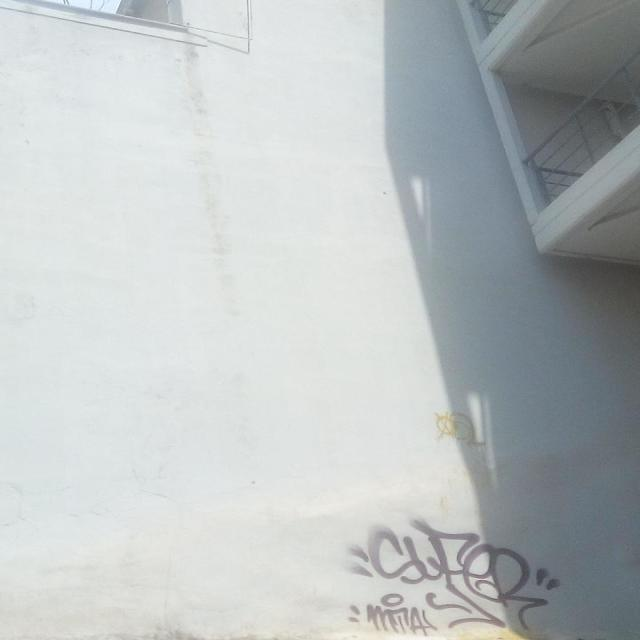nonspitting: (346, 520, 558, 637)
